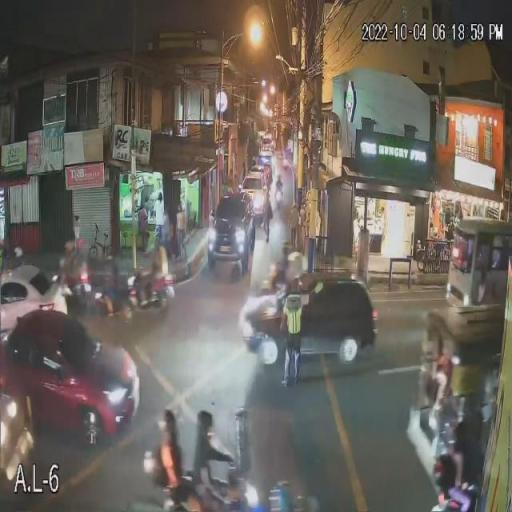helmet: (194, 411, 219, 442), (155, 410, 178, 435), (286, 250, 302, 262), (63, 239, 77, 252), (148, 240, 162, 253), (281, 238, 291, 255)
motorcycle: (142, 408, 260, 511), (94, 255, 140, 319), (132, 244, 175, 310), (60, 247, 103, 312), (432, 454, 477, 511)
rider: (190, 409, 234, 499), (153, 408, 186, 496), (433, 450, 471, 512), (142, 241, 172, 307), (58, 239, 88, 296), (96, 256, 122, 314)
